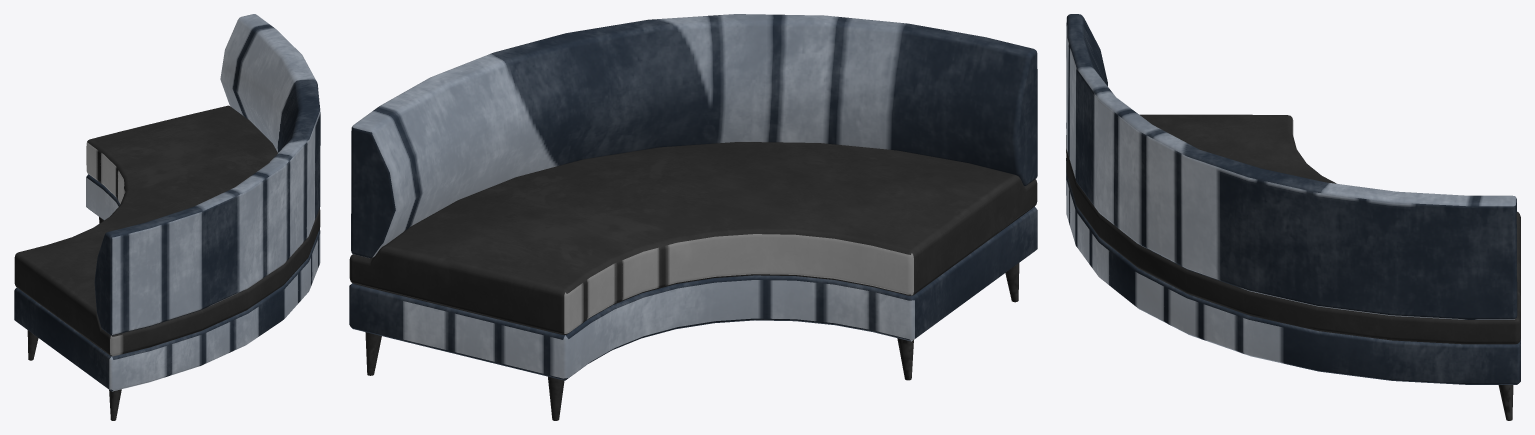
File: SM_BlueFurniture.fbx
3 views of the same model, side by side, from view 1: azimuth 30°, elevation 25°; view 2: azimuth 150°, elevation 25°; view 3: azimuth 270°, elevation 25° (orthographic). The views are drawn at different scales.
Parts seen in each view (by area): view 1: SM_BlueFurniture_LOD0; view 2: SM_BlueFurniture_LOD0; view 3: SM_BlueFurniture_LOD0.
Part boxes in pixels (x1,y1,x2,y2): SM_BlueFurniture_LOD0: [14, 14, 320, 420]; SM_BlueFurniture_LOD0: [349, 14, 1037, 420]; SM_BlueFurniture_LOD0: [1066, 14, 1520, 420].
Size of the model in its own units: 140 by 140 by 75.6.
1 material, 1 textured.
